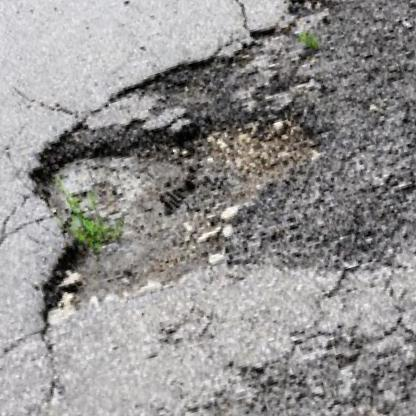pothole: (0, 60, 345, 329)
